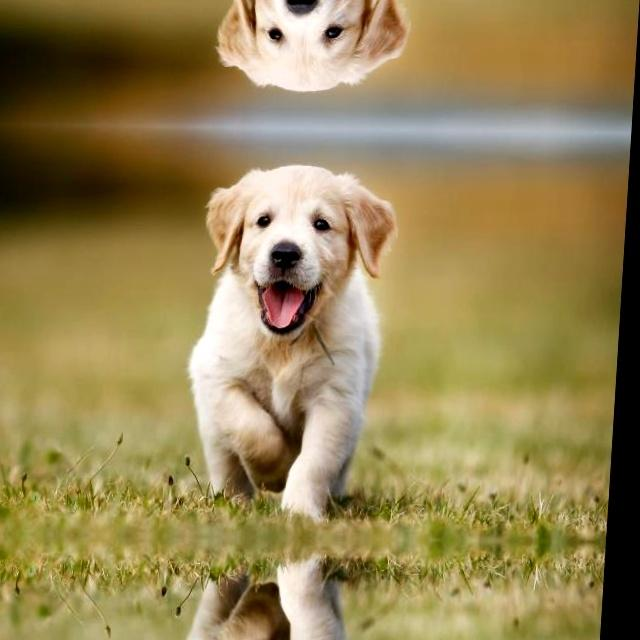dog: (174, 152, 416, 528), (200, 0, 428, 105), (164, 547, 392, 640)
